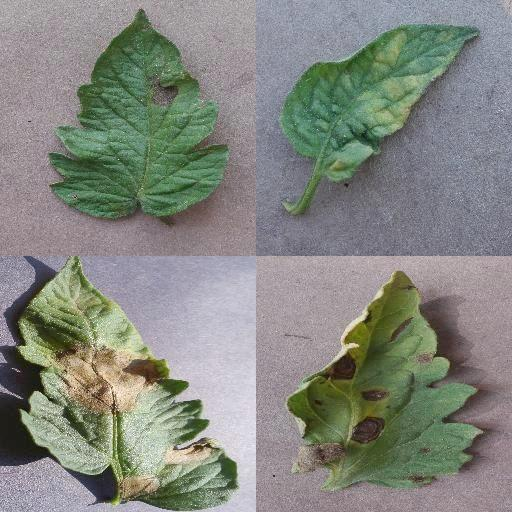Early Blight: (286, 267, 484, 497), (48, 7, 230, 221)
Late Blight: (15, 256, 241, 512)
Leaf Mold: (283, 24, 480, 182)
